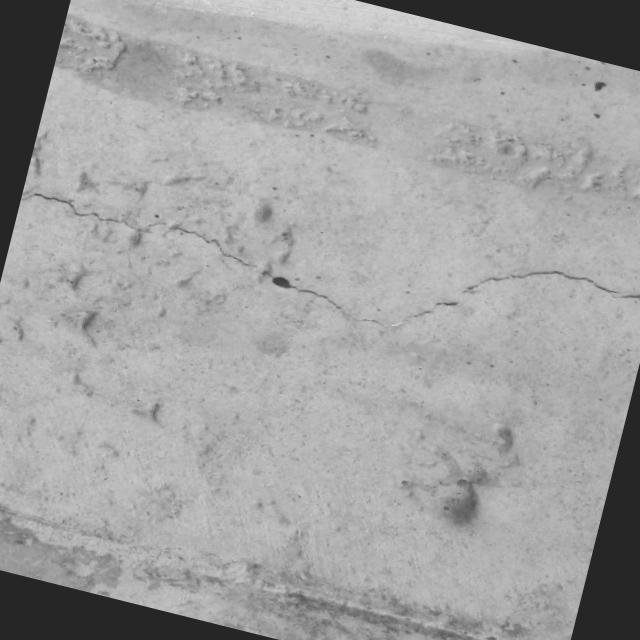crack: (12, 133, 640, 388)
